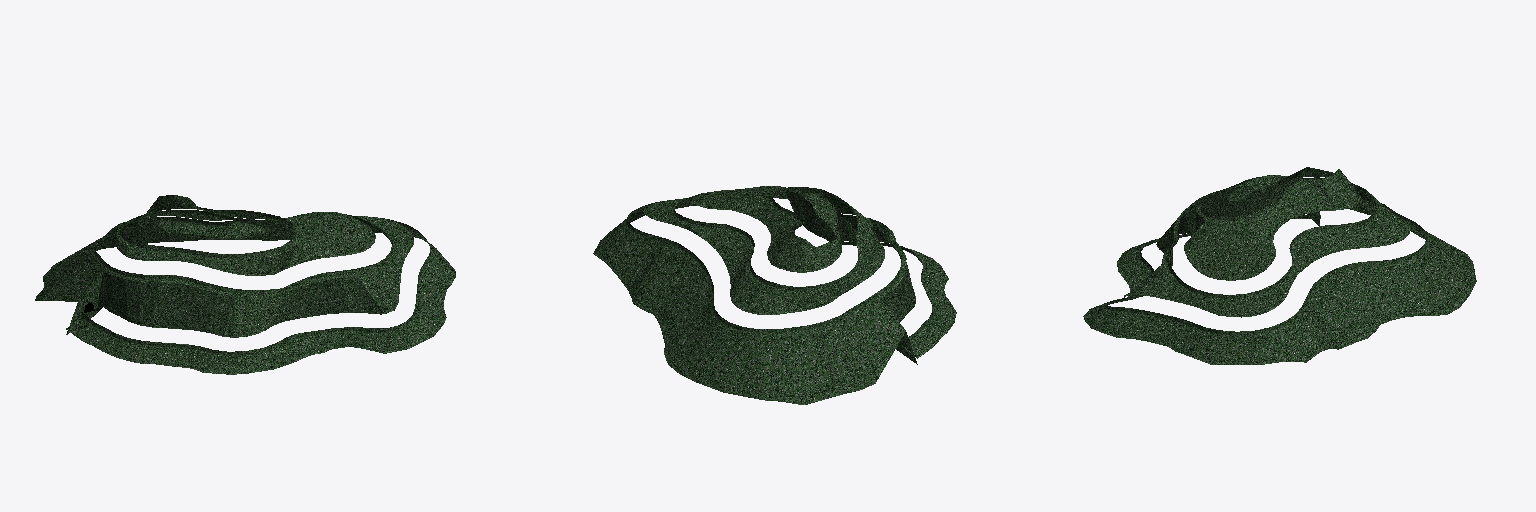
3 views of the same model, side by side, from view 1: azimuth 30°, elevation 25°; view 2: azimuth 150°, elevation 25°; view 3: azimuth 270°, elevation 25° (orthographic).
Visible parts, largest first — view 1: sides; view 2: sides; view 3: sides.
Part boxes in pixels (x1,y1,x2,y2): sides: (35, 195, 455, 374); sides: (593, 186, 956, 404); sides: (1083, 167, 1476, 364).
Bounding box in the file's own units: 251 × 76.94 × 252.
1 materials, 1 textured.